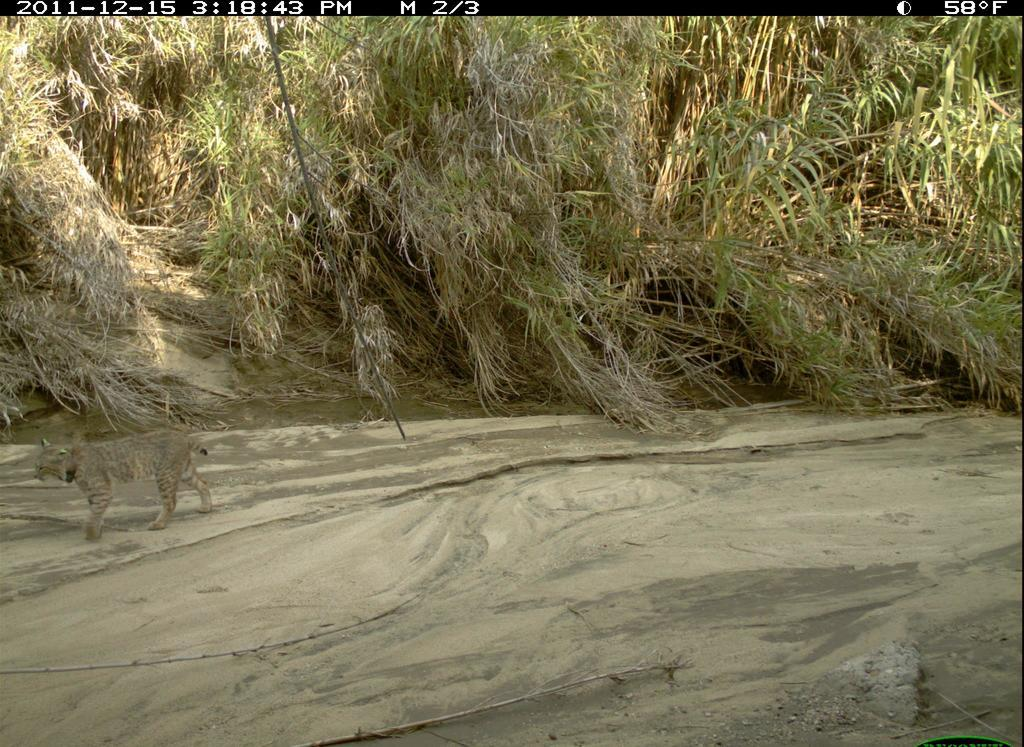bobcat: (29, 423, 240, 556)
